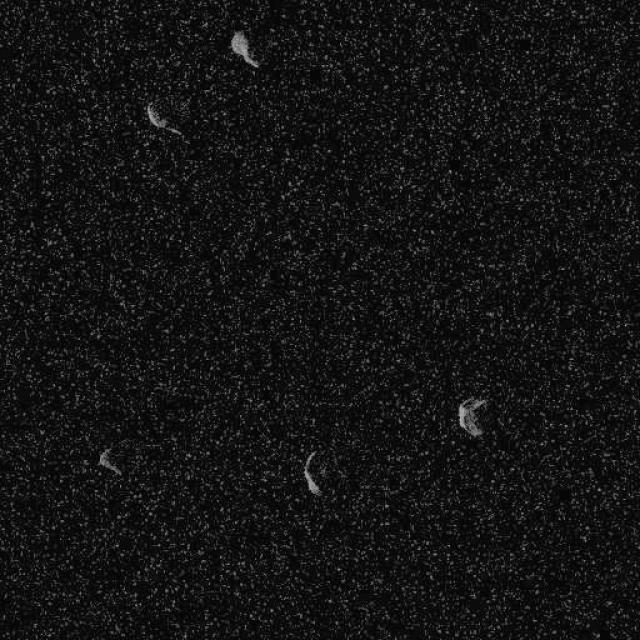D2: (301, 448, 344, 497), (144, 100, 182, 136), (457, 395, 488, 439), (229, 29, 260, 69), (96, 446, 122, 476)
